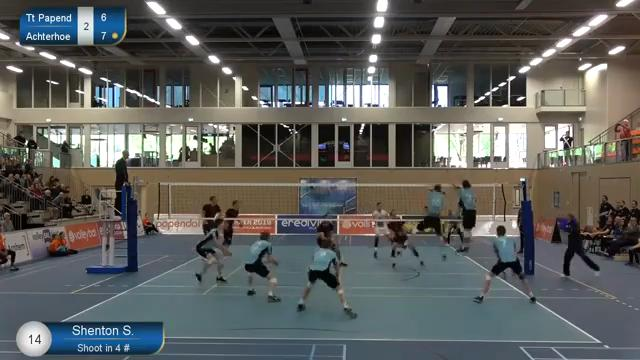Block: (406, 176, 452, 265), (450, 173, 481, 256)
Player: (474, 225, 535, 302), (297, 239, 356, 318), (245, 233, 280, 302), (387, 210, 423, 267), (195, 229, 229, 282), (316, 219, 347, 266), (372, 202, 388, 258), (201, 196, 220, 238), (222, 200, 238, 248), (447, 221, 463, 251)
